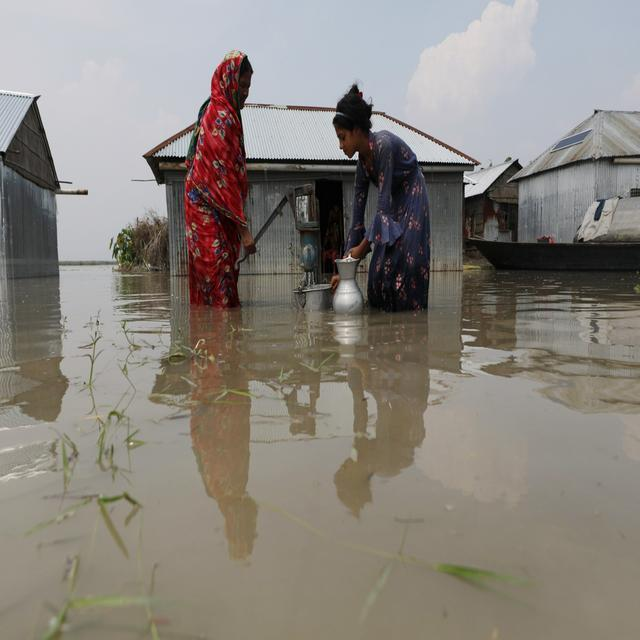Person-RiskLevel2: (325, 82, 441, 320), (180, 44, 258, 317)
